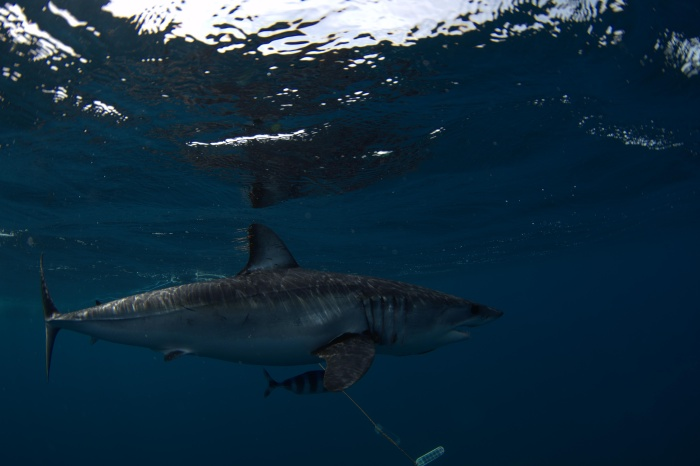Mako: (27, 219, 516, 410)
